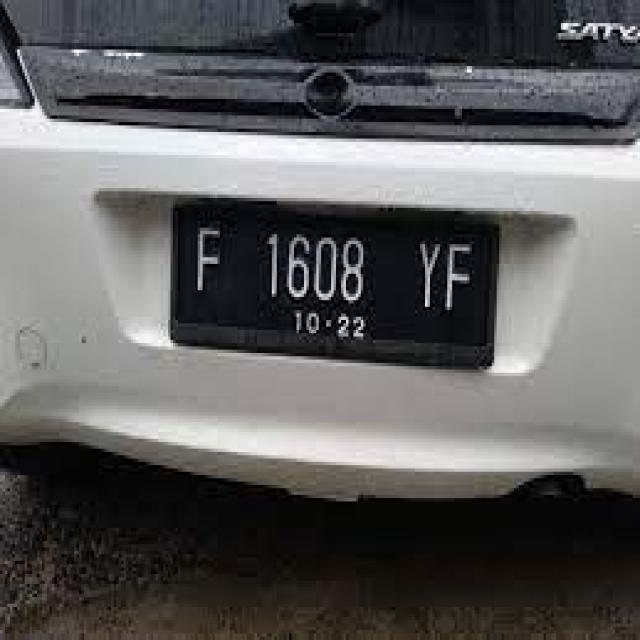license-plat: (148, 166, 526, 399)
